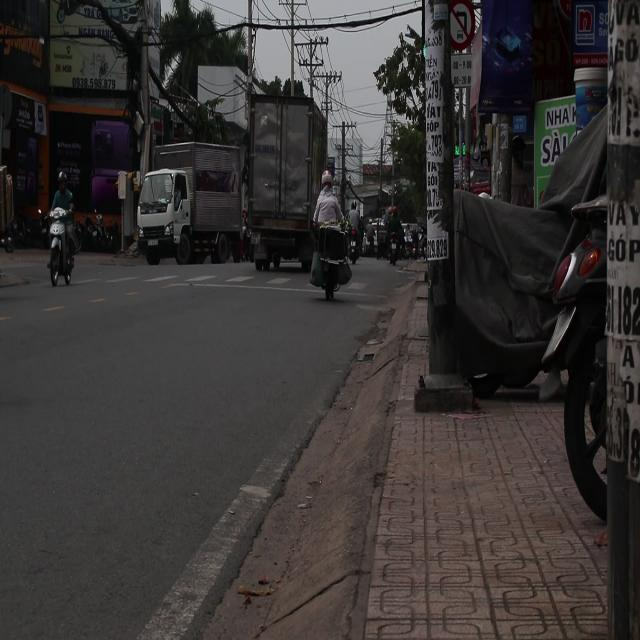motorbike: (41, 200, 89, 299), (308, 218, 354, 302), (379, 203, 406, 275)
truck: (244, 98, 325, 272), (136, 141, 247, 267)
